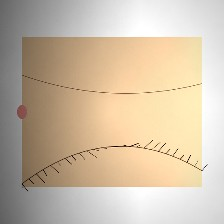pinguecula_lesion: (143, 100, 184, 134)
